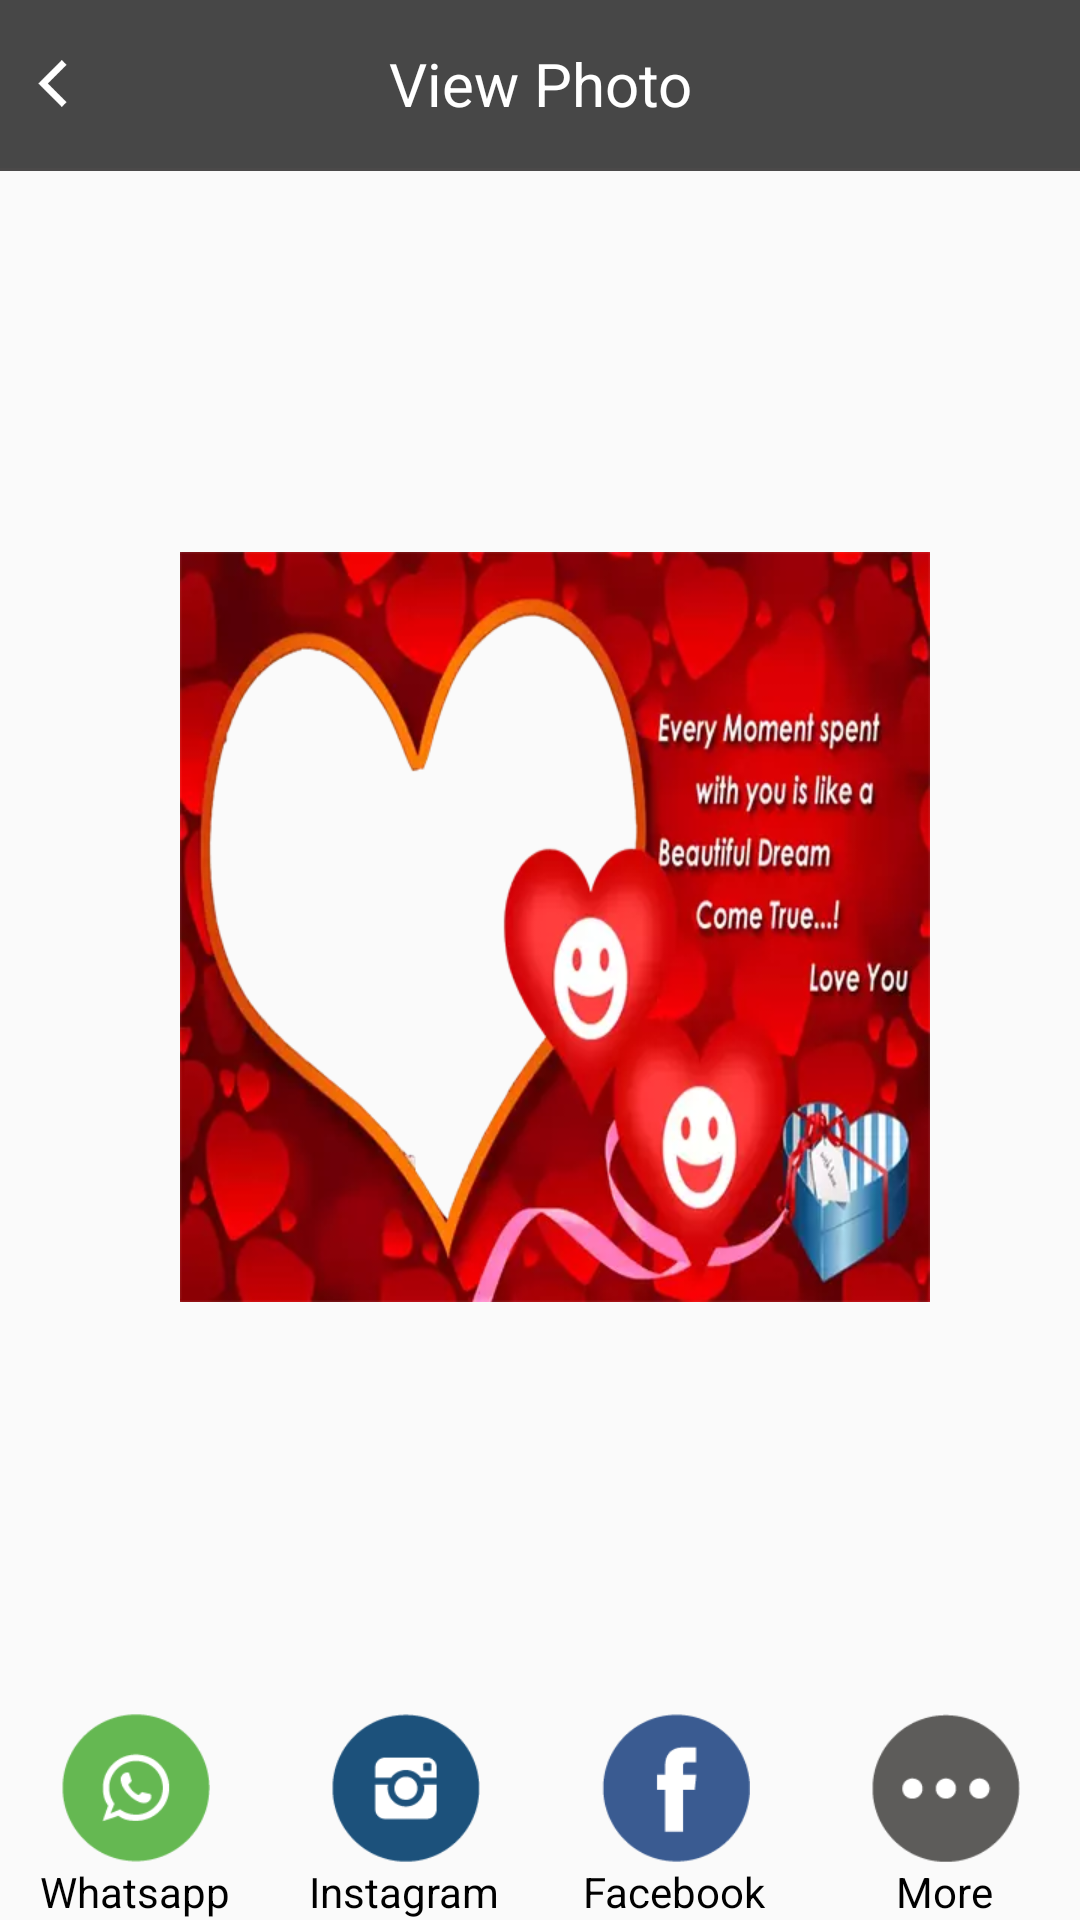

Point at icon controls on the screen. Image size 1080 x 1920, points as point (x, y).
back: point (52, 83)
